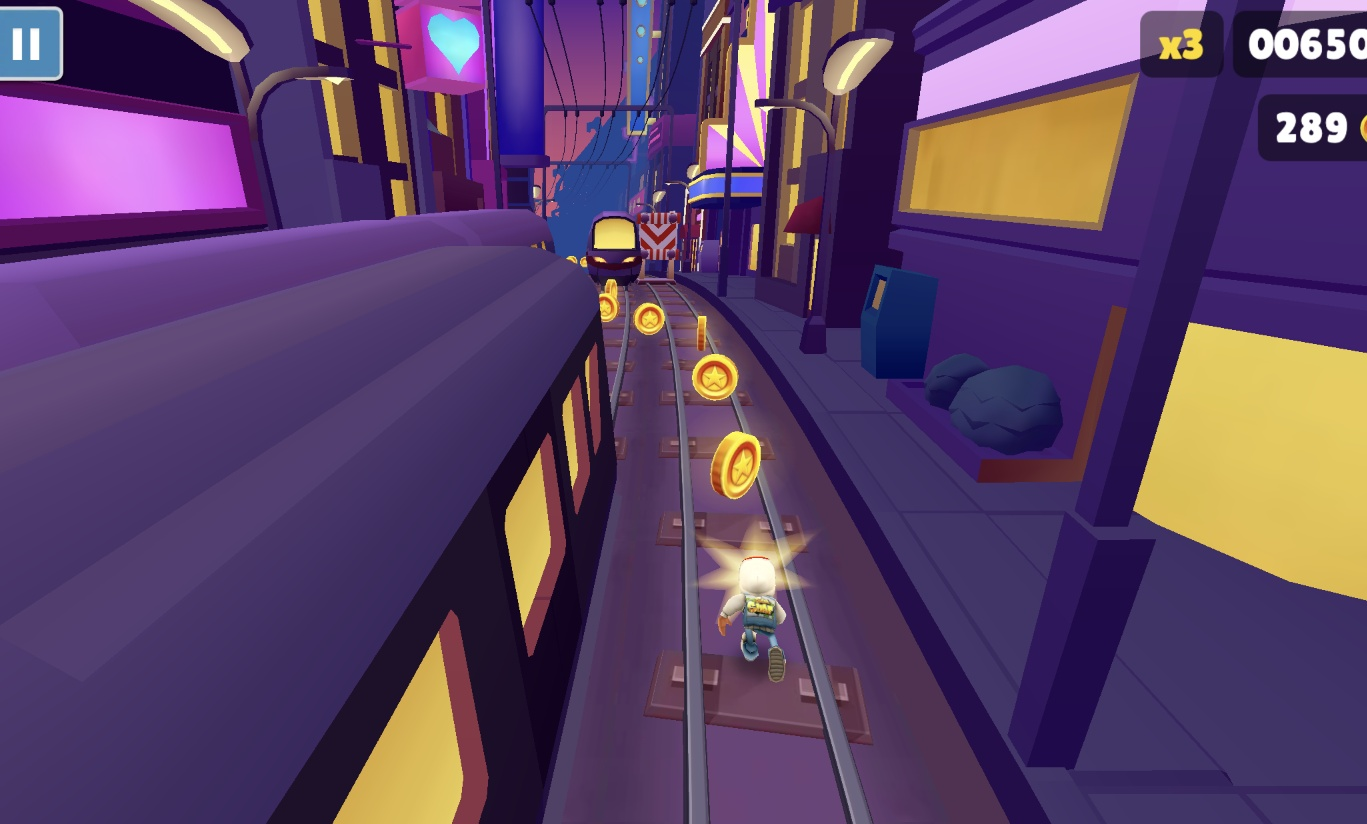overhead_barrier: (635, 209, 682, 288), (684, 238, 704, 273)
train: (0, 209, 626, 824), (586, 211, 644, 286)
